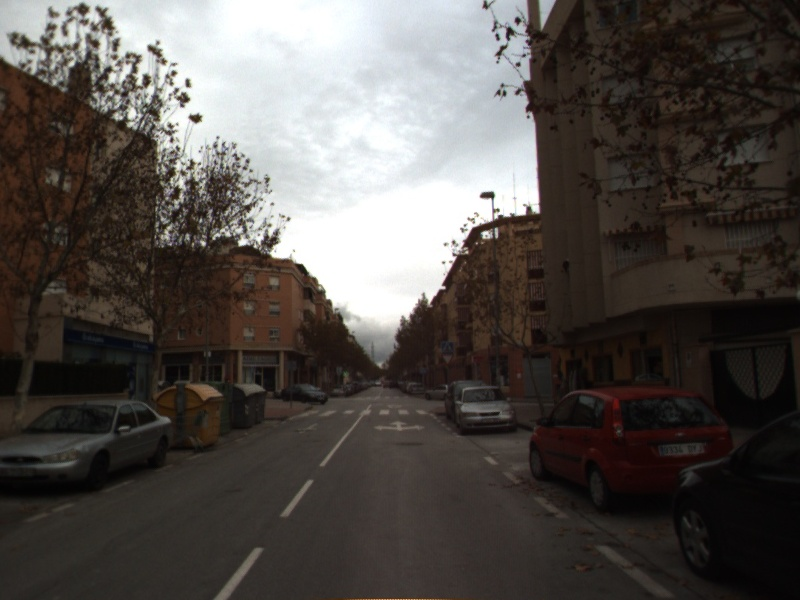STRAIGHT_LEFT_RIGHT: (372, 418, 427, 434)
